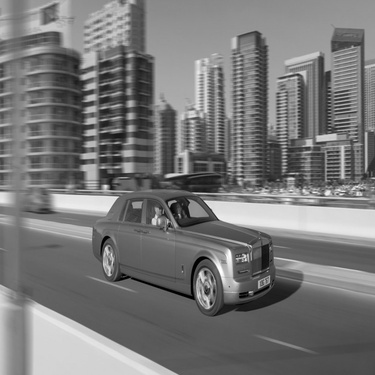car: (84, 182, 283, 317), (13, 181, 55, 216)
